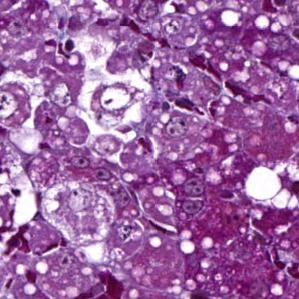ballooning: (240, 159, 299, 212)
